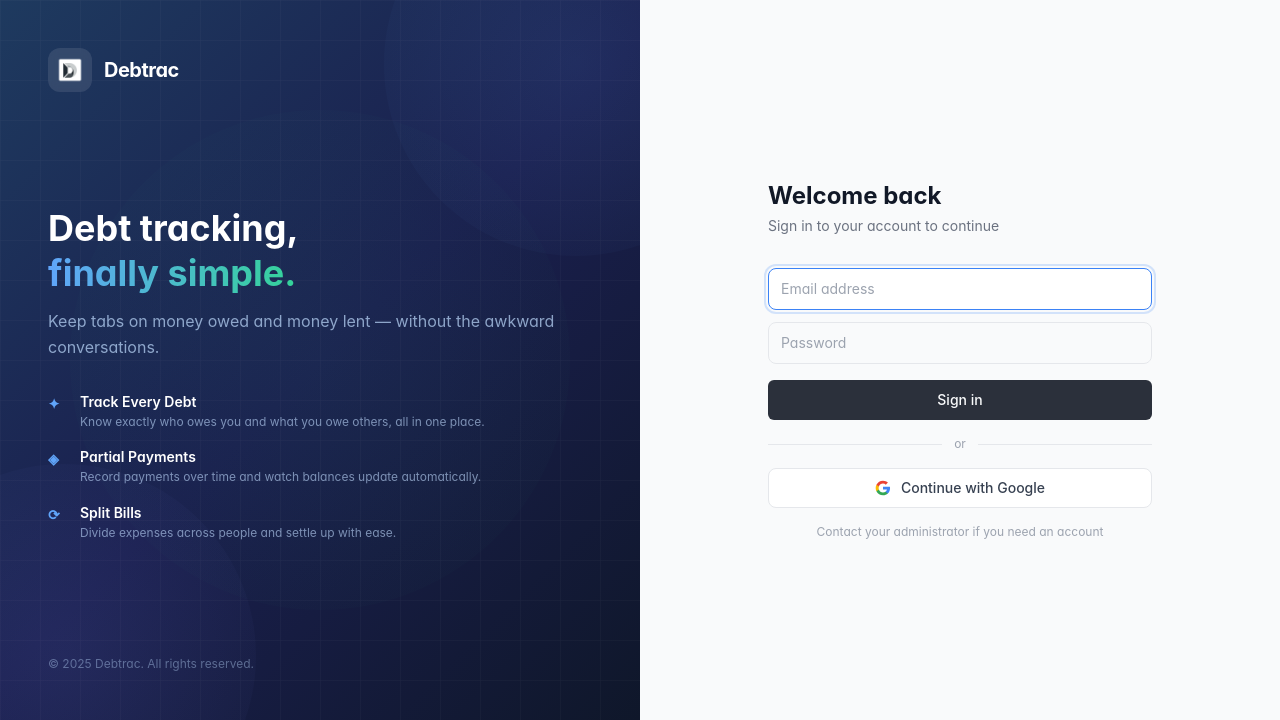
Login page › shows error on invalid credentials
Type "me@khaif.dev" into the field with placeholder "Email address".
click(960, 289); type("me@khaif.dev")  # box x1=768 y1=268 x2=1152 y2=310
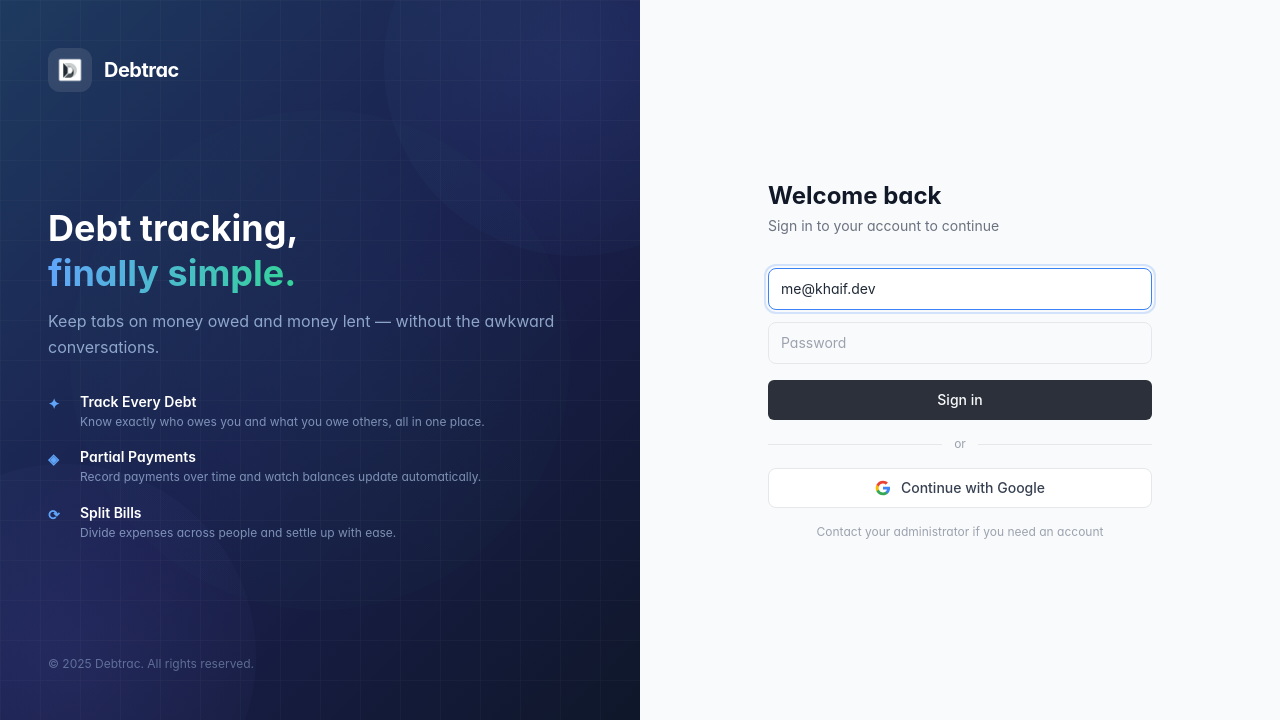
Type "wrongpassword" into the password field with placeholder "Password".
click(960, 343); type("wrongpassword")  # box x1=768 y1=322 x2=1152 y2=364
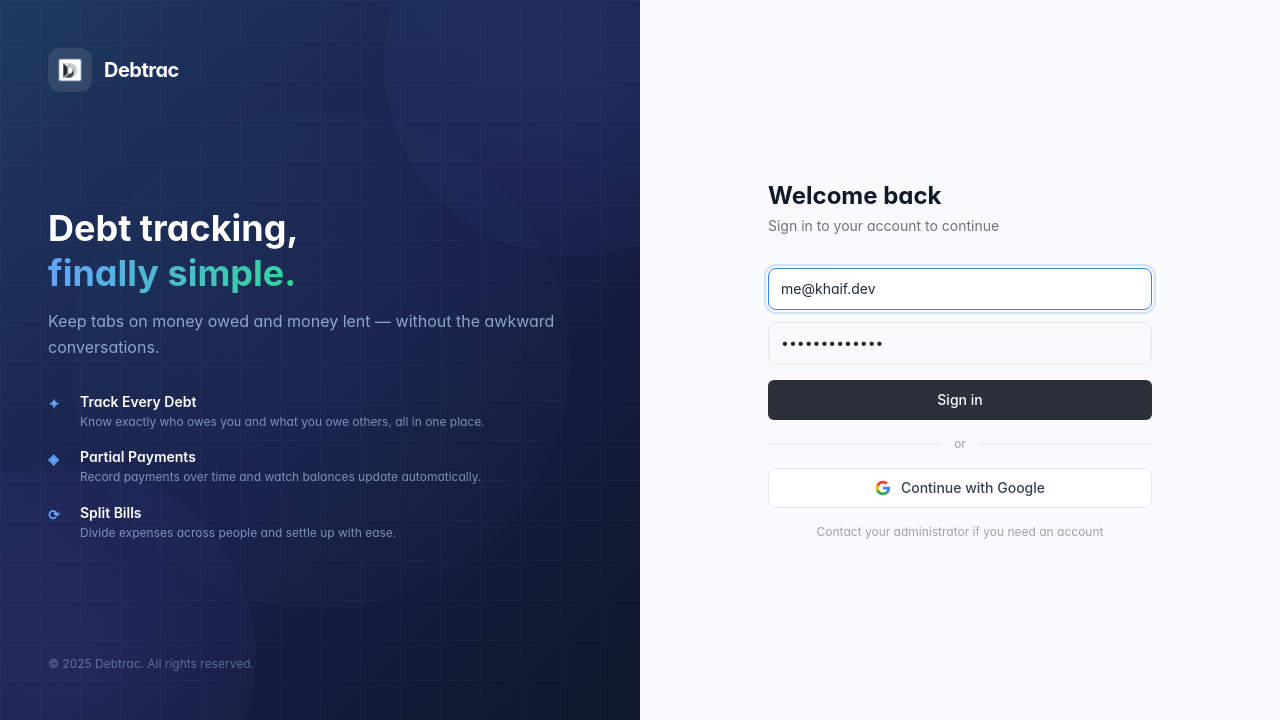
Submit the form from the button "Sign in", box x1=768 y1=380 x2=1152 y2=420
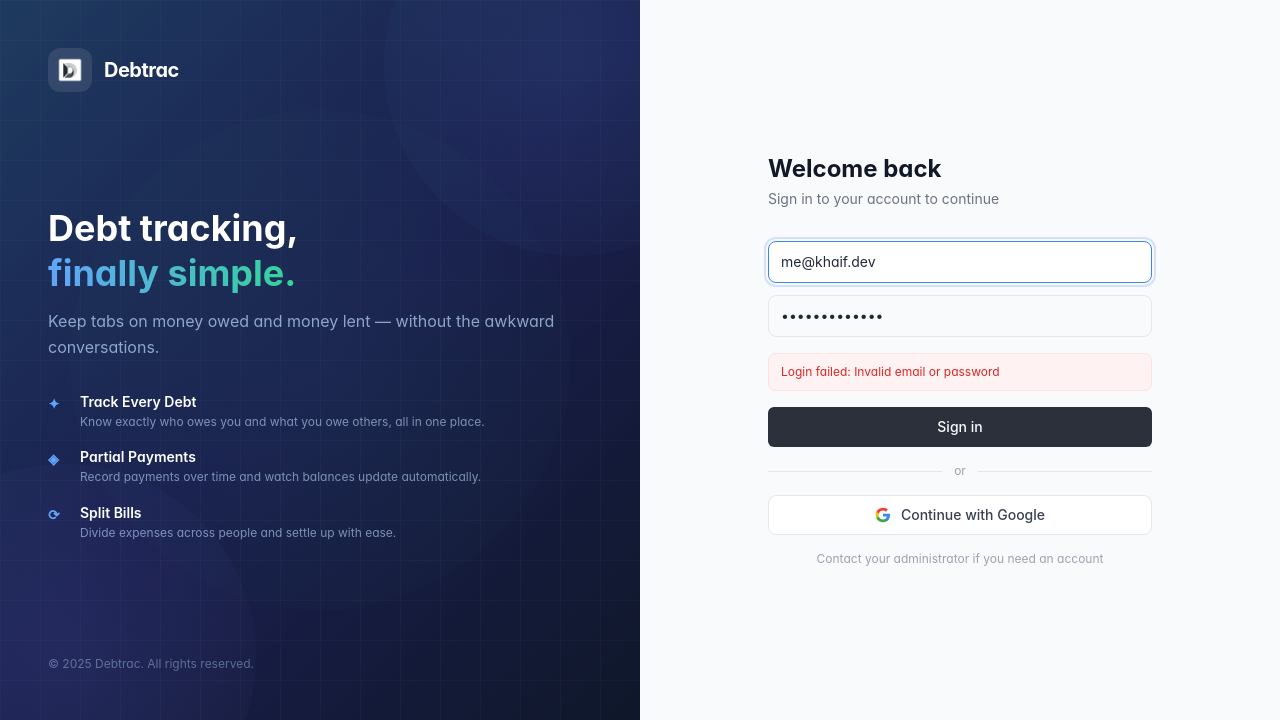
Now the text "Login failed: Invalid email or password" is shown, box x1=768 y1=353 x2=1152 y2=391
